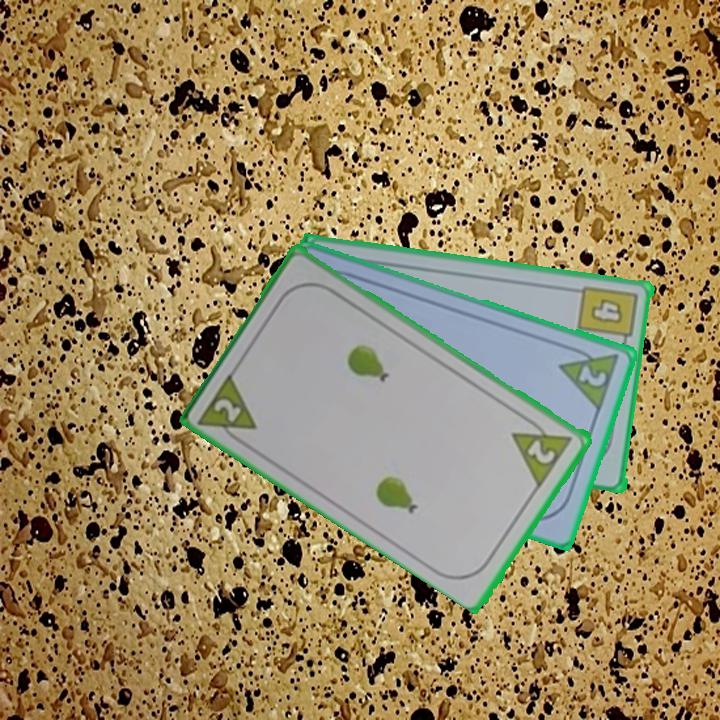2p: (195, 368, 261, 450), (508, 411, 577, 488), (575, 360, 610, 390)
4b: (575, 281, 642, 351)
